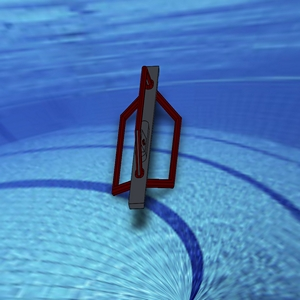submarine: (91, 45, 203, 224)
